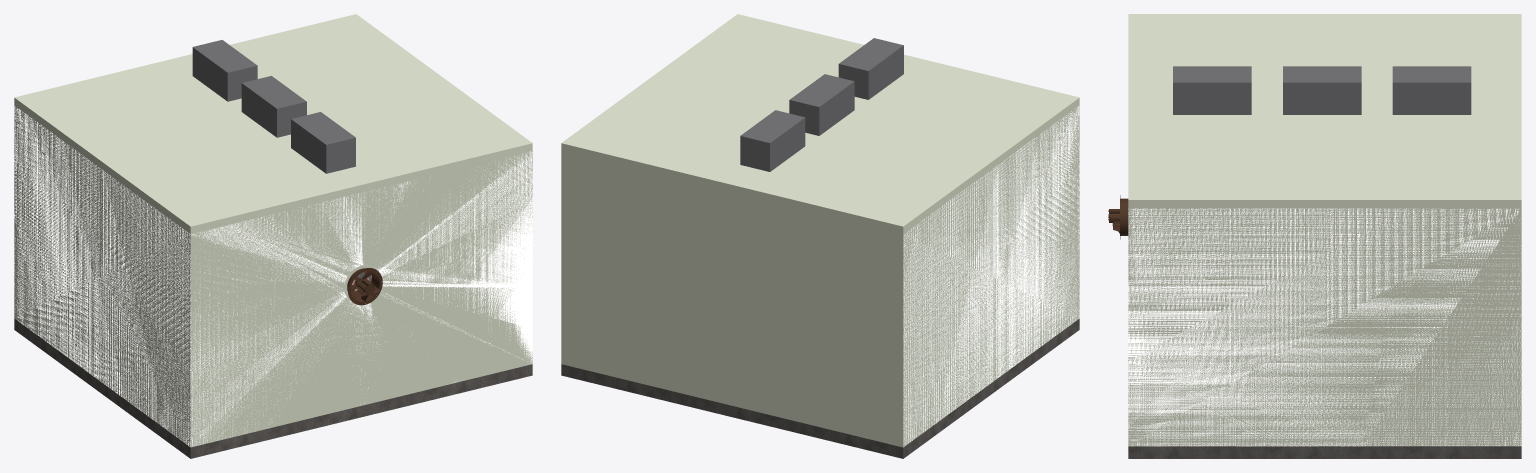
The picture shows the model from 3 angles, left to right: view 1: azimuth 30°, elevation 25°; view 2: azimuth 150°, elevation 25°; view 3: azimuth 270°, elevation 25°; orthographic projection. The views are drawn at different scales.
Parts seen in each view (by area): view 1: PigRoom_Walls_Flat, PigRoom_RoofPanel_Solid, PigRoom_Walls_Solid, PigRoom_FloorSlab, IN1_Housing_Simple, IN3_Housing_Simple, IN2_Housing_Simple, outlet_model; view 2: PigRoom_Walls_Flat, PigRoom_RoofPanel_Solid, PigRoom_Walls_Solid, PigRoom_FloorSlab, IN3_Housing_Simple, IN2_Housing_Simple, IN1_Housing_Simple; view 3: PigRoom_Walls_Flat, PigRoom_RoofPanel_Solid, PigRoom_Walls_Solid, PigRoom_FloorSlab, IN3_Housing_Simple, IN1_Housing_Simple, IN2_Housing_Simple, outlet_model.
Part boxes in pixels (<box>): PigRoom_Walls_Flat: <box>14,105,532,447</box>; PigRoom_RoofPanel_Solid: <box>14,14,532,233</box>; PigRoom_Walls_Solid: <box>14,106,532,446</box>; PigRoom_FloorSlab: <box>14,272,532,458</box>; IN1_Housing_Simple: <box>291,112,355,173</box>; IN3_Housing_Simple: <box>192,40,257,101</box>; IN2_Housing_Simple: <box>241,76,306,137</box>; outlet_model: <box>347,268,382,305</box>; PigRoom_Walls_Flat: <box>561,105,1079,447</box>; PigRoom_RoofPanel_Solid: <box>561,14,1079,233</box>; PigRoom_Walls_Solid: <box>903,106,1079,444</box>; PigRoom_FloorSlab: <box>561,319,1079,458</box>; IN3_Housing_Simple: <box>740,110,805,171</box>; IN2_Housing_Simple: <box>789,74,854,135</box>; IN1_Housing_Simple: <box>838,38,903,99</box>; PigRoom_Walls_Flat: <box>1128,208,1521,446</box>; PigRoom_RoofPanel_Solid: <box>1128,14,1521,208</box>; PigRoom_Walls_Solid: <box>1128,208,1521,446</box>; PigRoom_FloorSlab: <box>1128,446,1521,458</box>; IN3_Housing_Simple: <box>1392,66,1471,114</box>; IN1_Housing_Simple: <box>1173,66,1251,114</box>; IN2_Housing_Simple: <box>1283,66,1361,114</box>; outlet_model: <box>1108,195,1128,239</box>.
Bounding box in the file's own units: 4.7 × 3.43 × 4.41.
Materials: 10 (1 with a texture image).
